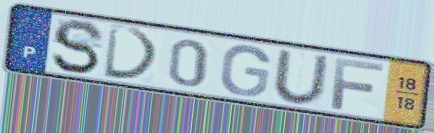0: (165, 37, 214, 88)
D: (101, 22, 162, 83)
F: (329, 56, 387, 112)
G: (218, 44, 273, 99)
S: (49, 17, 107, 77)
U: (271, 48, 332, 108)
